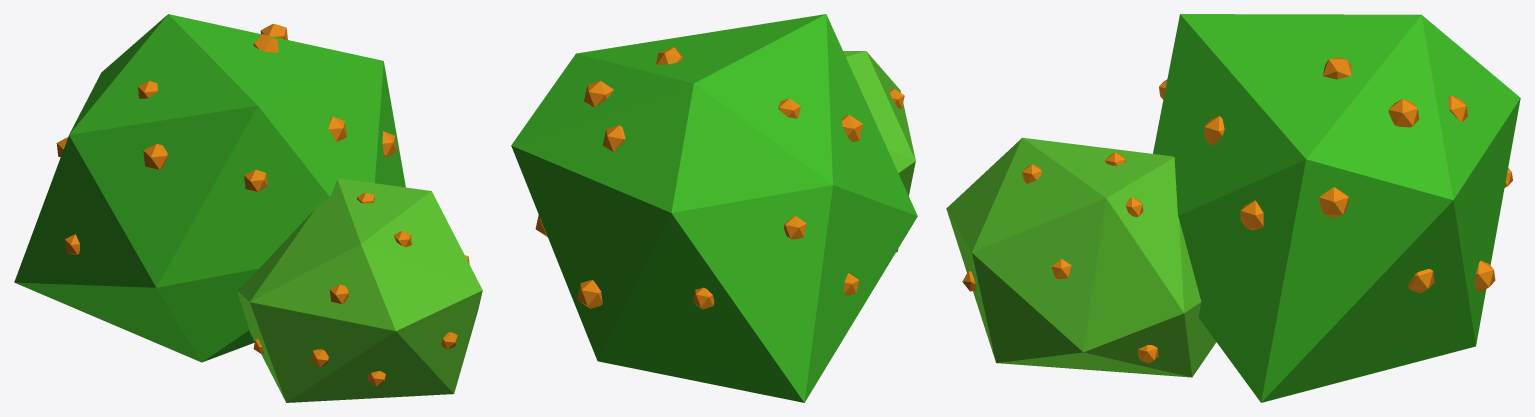
Rendered from bush1berry.fbx.
3 renders of one model, left to right at view 1: azimuth 30°, elevation 25°; view 2: azimuth 150°, elevation 25°; view 3: azimuth 270°, elevation 25°, orthographic. The views are drawn at different scales.
Parts seen in each view (by area): view 1: Icosphere.007; view 2: Icosphere.007; view 3: Icosphere.007.
Part boxes in pixels (left/top/right/bottom): Icosphere.007: left=14, top=14, right=482, bottom=402; Icosphere.007: left=511, top=14, right=917, bottom=402; Icosphere.007: left=946, top=14, right=1520, bottom=402.
Size of the model in its own units: 209 by 170 by 297.
